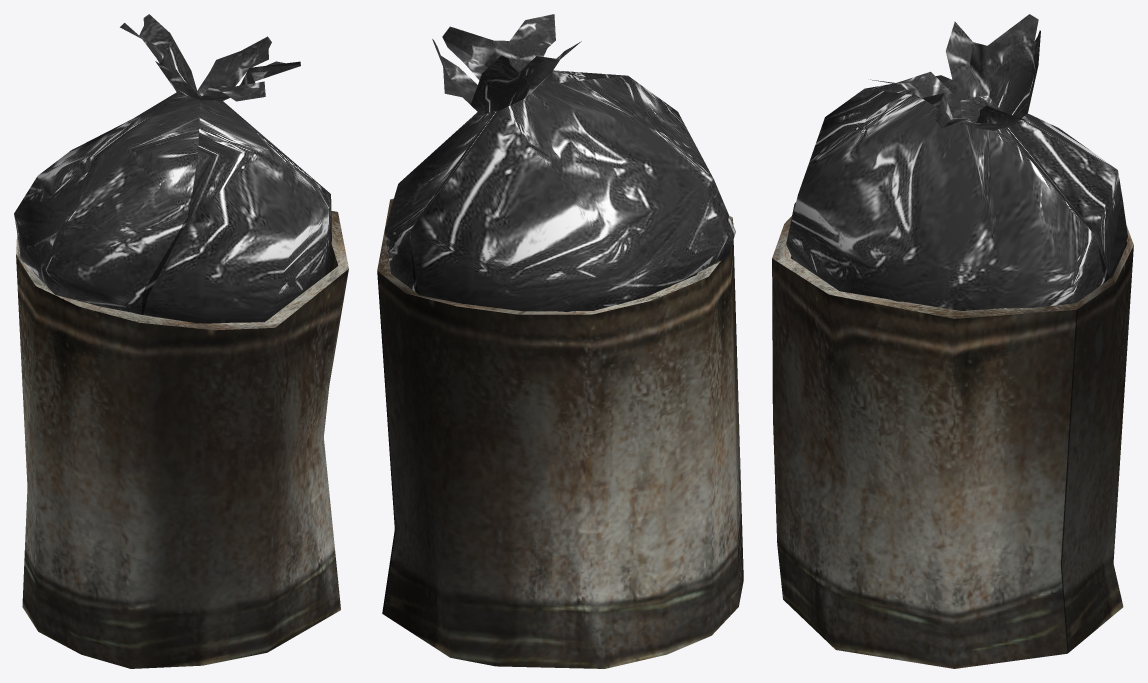
File: Rubbish.FBX
3 renders of one model, left to right at view 1: azimuth 30°, elevation 25°; view 2: azimuth 150°, elevation 25°; view 3: azimuth 270°, elevation 25°, orthographic. The views are drawn at different scales.
Visible parts, largest first — view 1: Rubbish; view 2: Rubbish; view 3: Rubbish.
Boxes of the visible parts, x1=… form: Rubbish: x1=14, y1=14, x2=348, y2=668; Rubbish: x1=377, y1=14, x2=743, y2=668; Rubbish: x1=772, y1=14, x2=1133, y2=668.
Bounding box in the file's own units: 48.29 × 46.69 × 81.35.
1 material, 1 textured.
